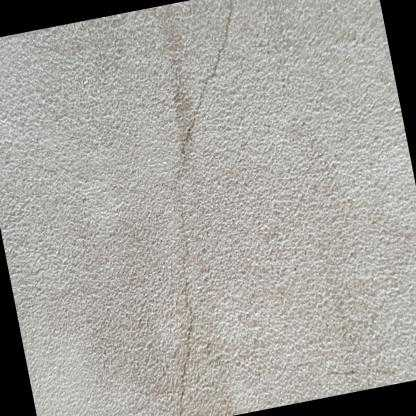crack: (173, 0, 233, 416)
